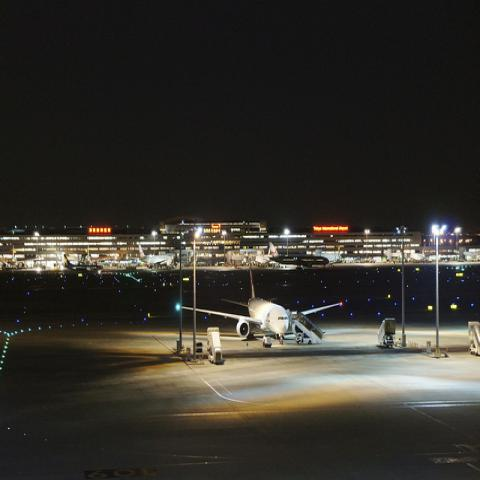truck: (377, 319, 395, 348)
